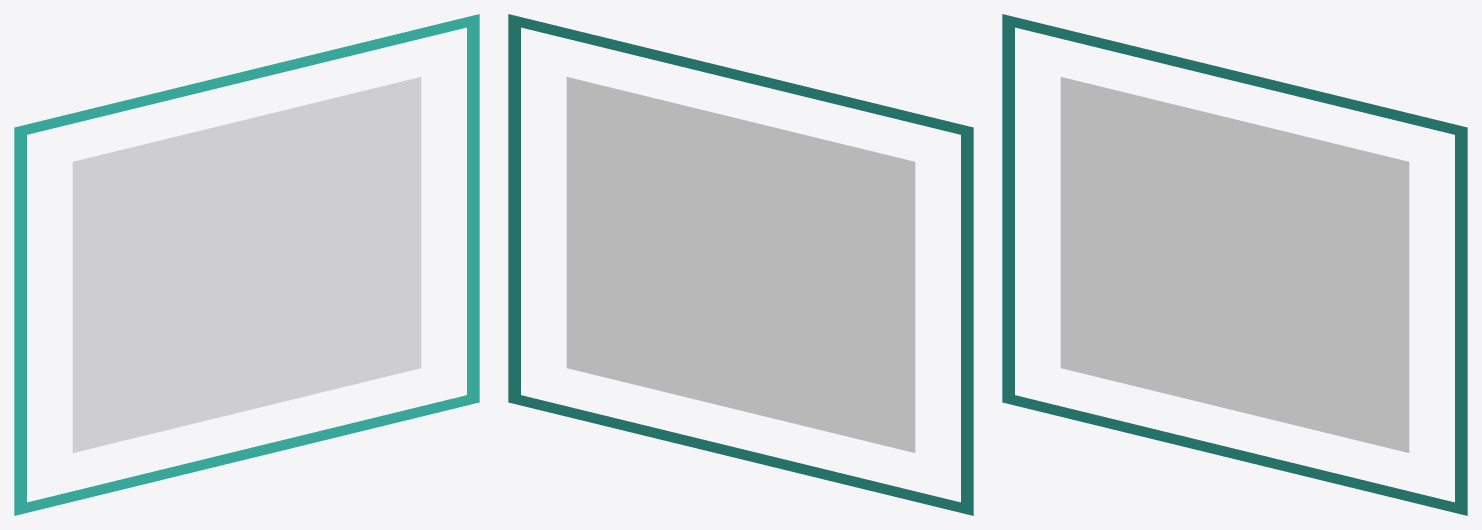
File: shield_test_base1.gltf
3 renders of one model, left to right at view 1: azimuth 30°, elevation 25°; view 2: azimuth 150°, elevation 25°; view 3: azimuth 330°, elevation 25°, orthographic.
Visible parts, largest first — view 1: Plane.001; view 2: Plane.001; view 3: Plane.001.
Boxes of the visible parts, bbox=[...] form: Plane.001: bbox=[14, 14, 479, 515]; Plane.001: bbox=[508, 14, 973, 515]; Plane.001: bbox=[1002, 14, 1467, 515].
Size of the model in its own units: 0.3611 by 0.2882 by 4.47e-09.
